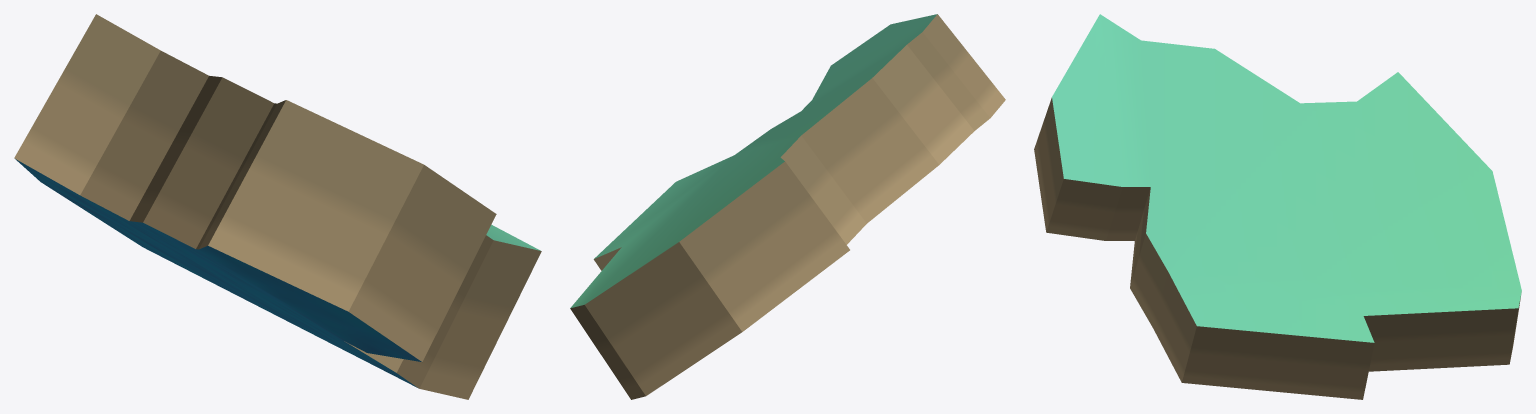
File: 0651_Tanzania.glb
3 renders of one model, left to right at view 1: azimuth 30°, elevation 25°; view 2: azimuth 150°, elevation 25°; view 3: azimuth 270°, elevation 25°, orthographic. The views are drawn at different scales.
Visible parts, largest first — view 1: part_0; view 2: part_0; view 3: part_0.
Boxes of the visible parts, x1=… form: part_0: x1=14, y1=14, x2=541, y2=399; part_0: x1=570, y1=14, x2=1005, y2=399; part_0: x1=1034, y1=14, x2=1521, y2=399.
Size of the model in its own units: 0.5755 by 0.5655 by 0.8245.
1 material, 1 textured.
